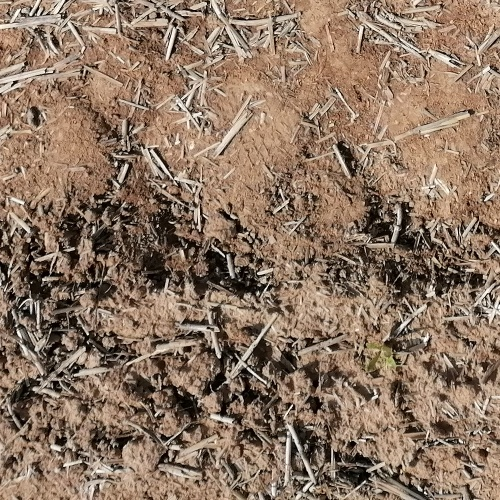beet: (364, 342, 396, 373)
